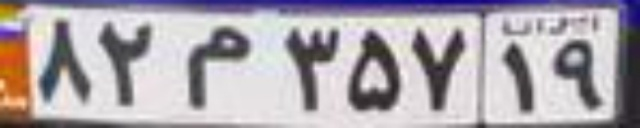1: (500, 39, 537, 110)
2: (98, 20, 155, 105)
3: (278, 26, 344, 112)
5: (347, 27, 405, 110)
7: (409, 26, 474, 110)
8: (29, 18, 91, 102)
9: (549, 39, 604, 109)
mim: (185, 25, 252, 108)
